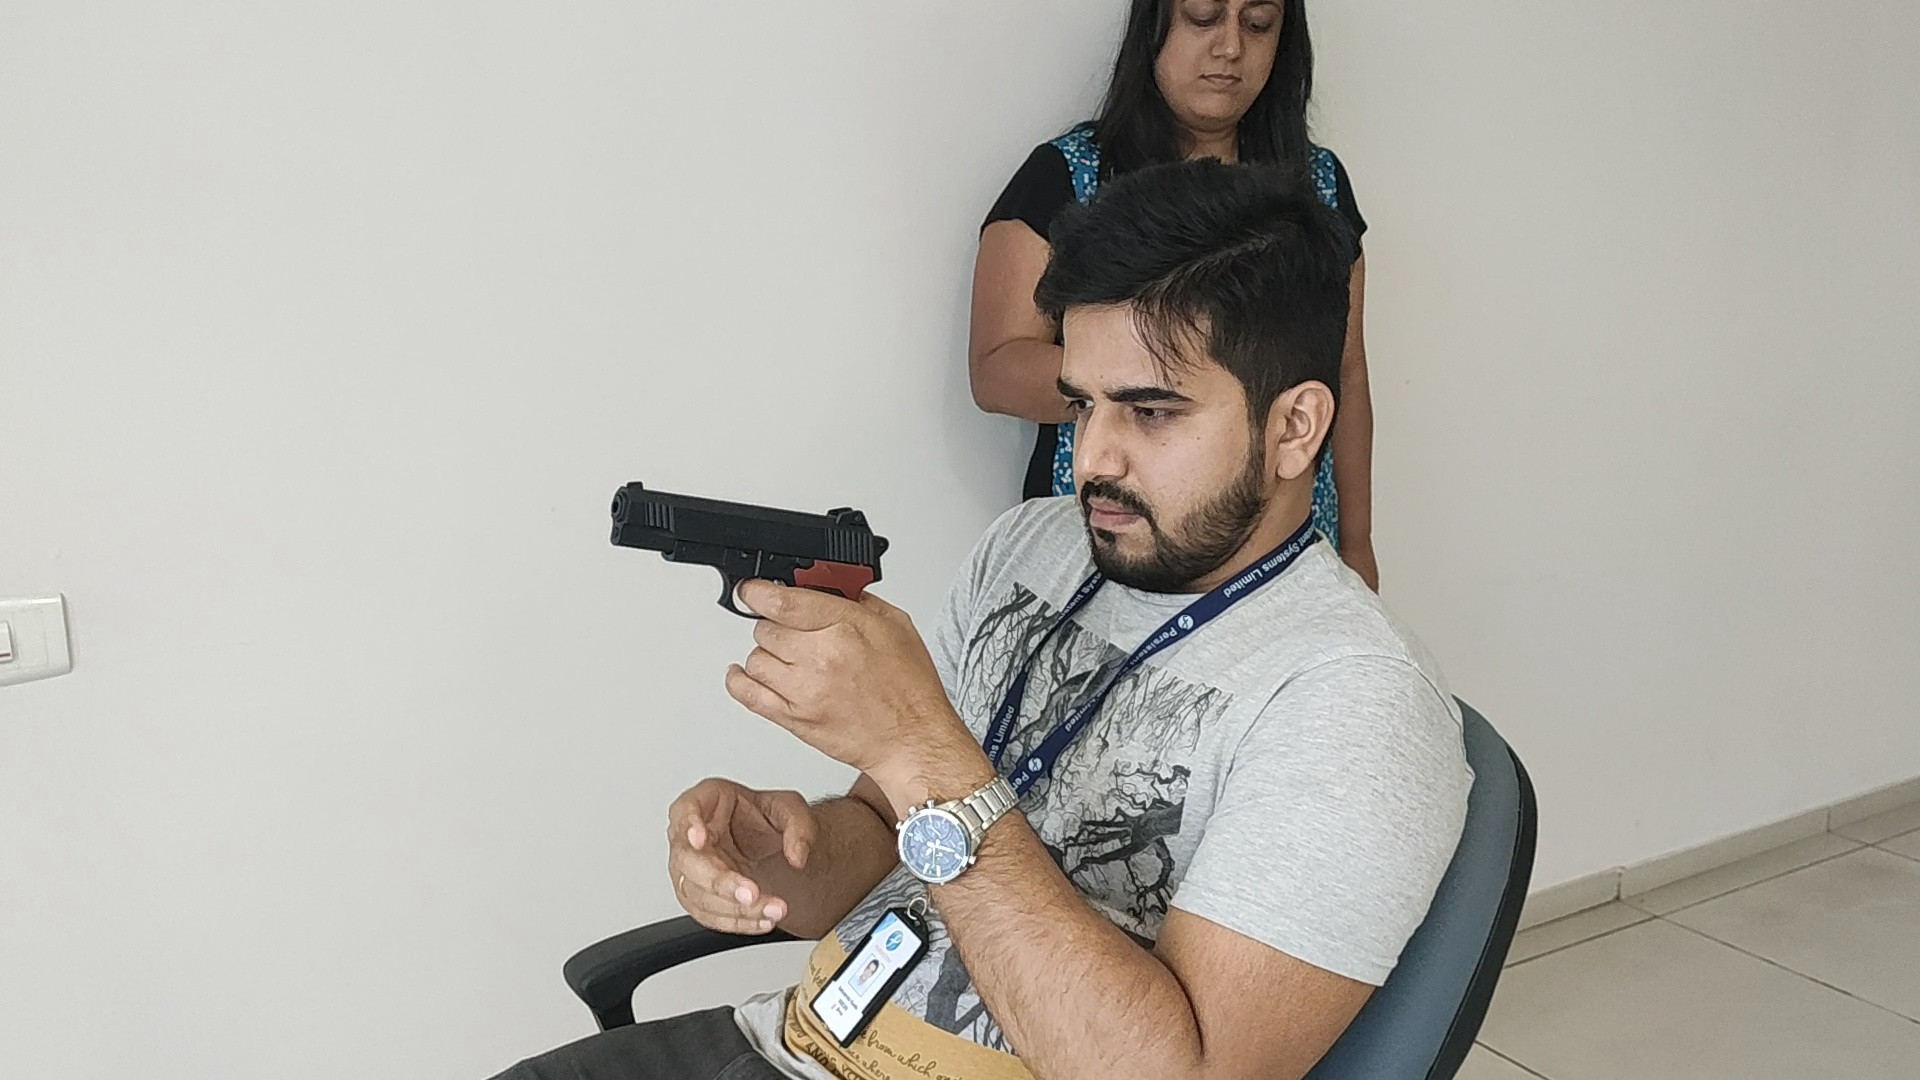gun: (604, 473, 887, 601)
